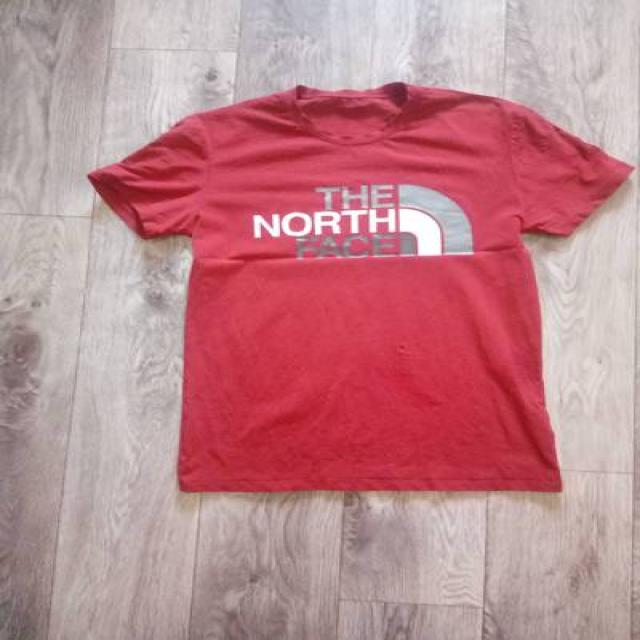shirt: (85, 80, 635, 496)
